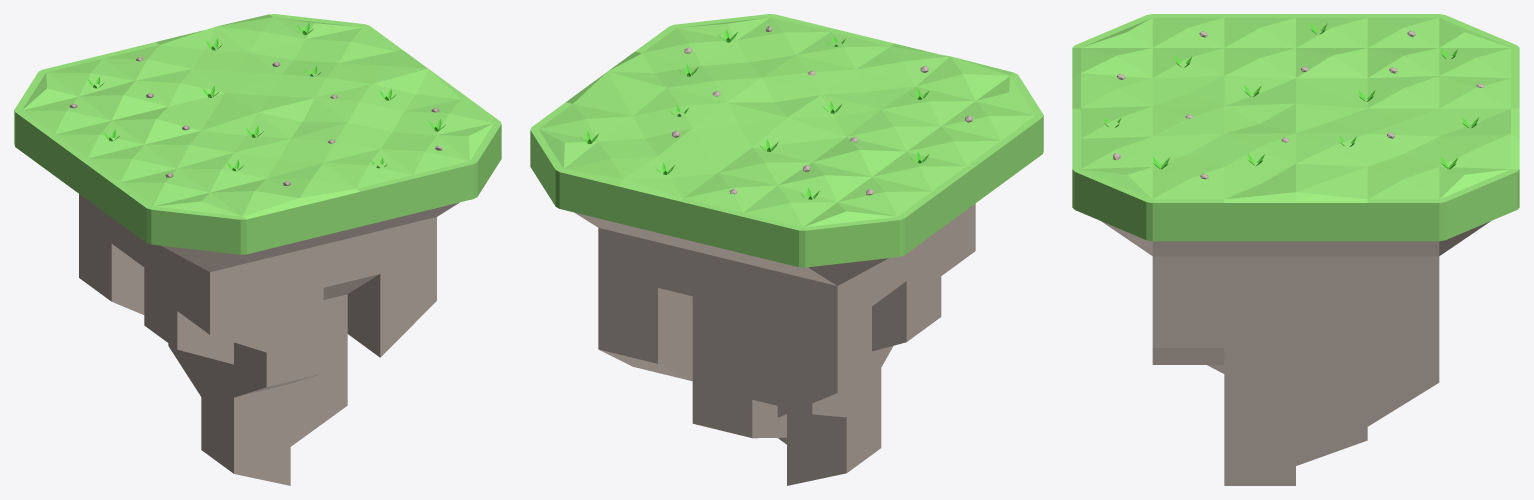
Rendered from mainIsland.fbx.
3 views of the same model, side by side, from view 1: azimuth 30°, elevation 25°; view 2: azimuth 150°, elevation 25°; view 3: azimuth 270°, elevation 25° (orthographic). The views are drawn at different scales.
Parts seen in each view (by area): view 1: Cube.002; view 2: Cube.002; view 3: Cube.002.
Boxes of the visible parts, <box> form: Cube.002: <box>14,14,501,485</box>; Cube.002: <box>530,14,1043,485</box>; Cube.002: <box>1072,14,1519,485</box>.
Bounding box in the file's own units: 1248 × 1198 × 1248.
